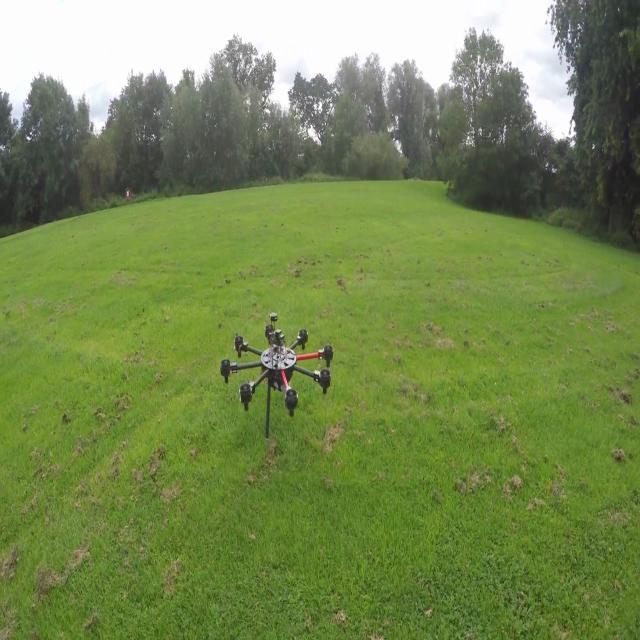drone: (201, 247, 367, 453)
